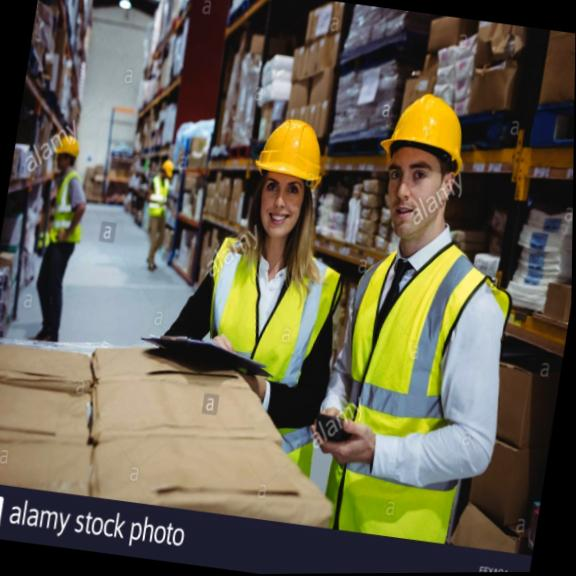safety_vest: (325, 237, 520, 543), (193, 227, 352, 416), (40, 168, 94, 255), (143, 170, 175, 225)
